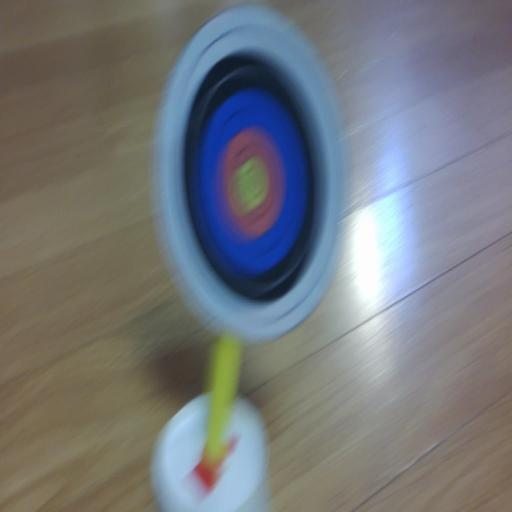target: (157, 6, 346, 340)
